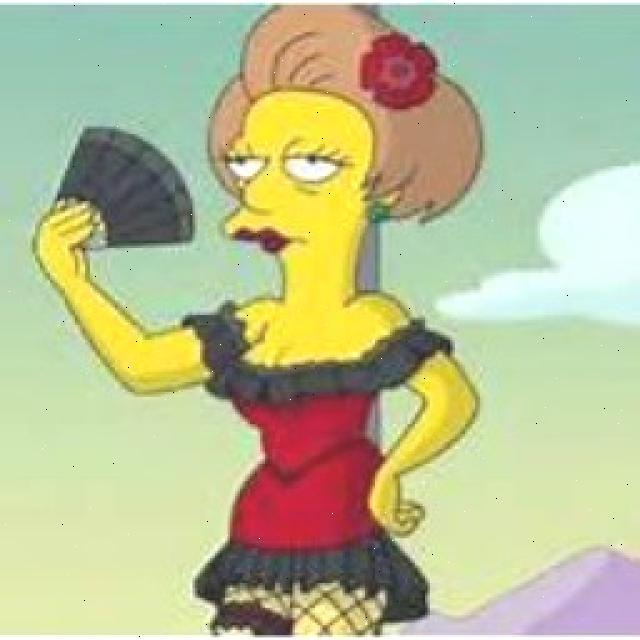Edna Krappel: (200, 0, 490, 305)
